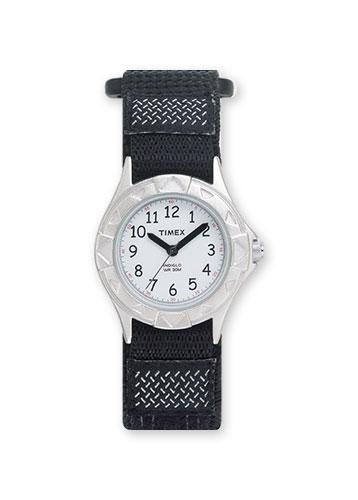watch: (82, 164, 274, 345)
